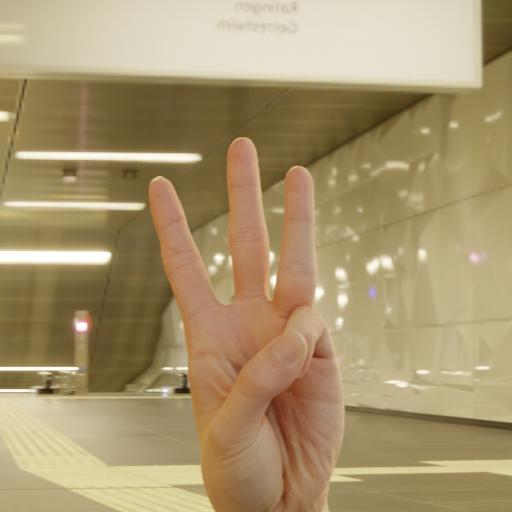W: (117, 126, 368, 512)
